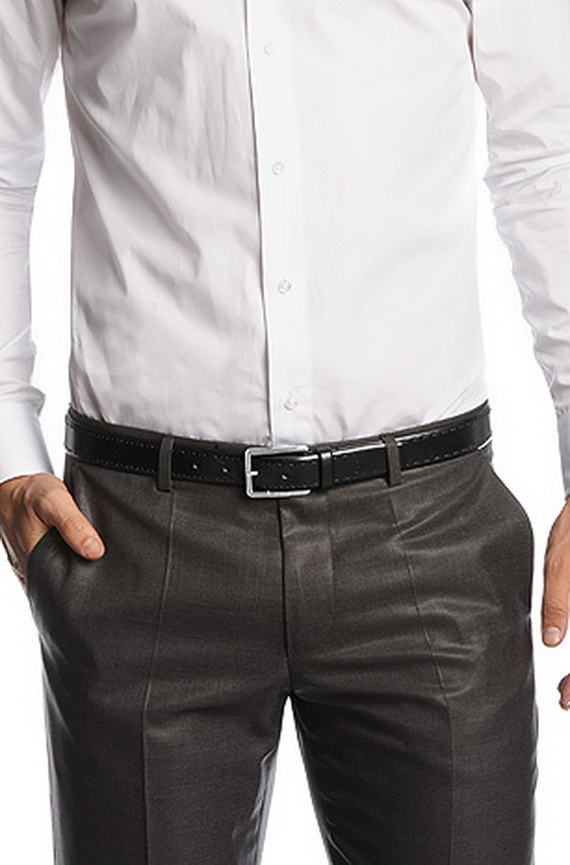F_belt: (52, 408, 498, 507)
F_dress pants: (44, 412, 556, 847)
